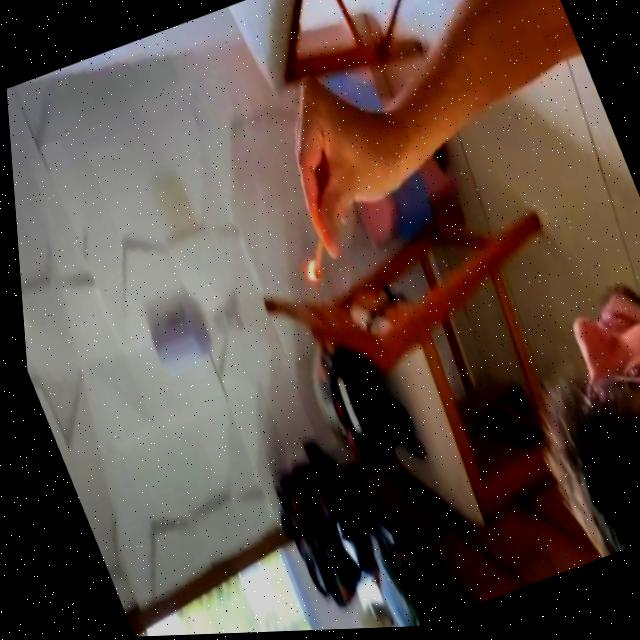Fire: (293, 257, 325, 288)
